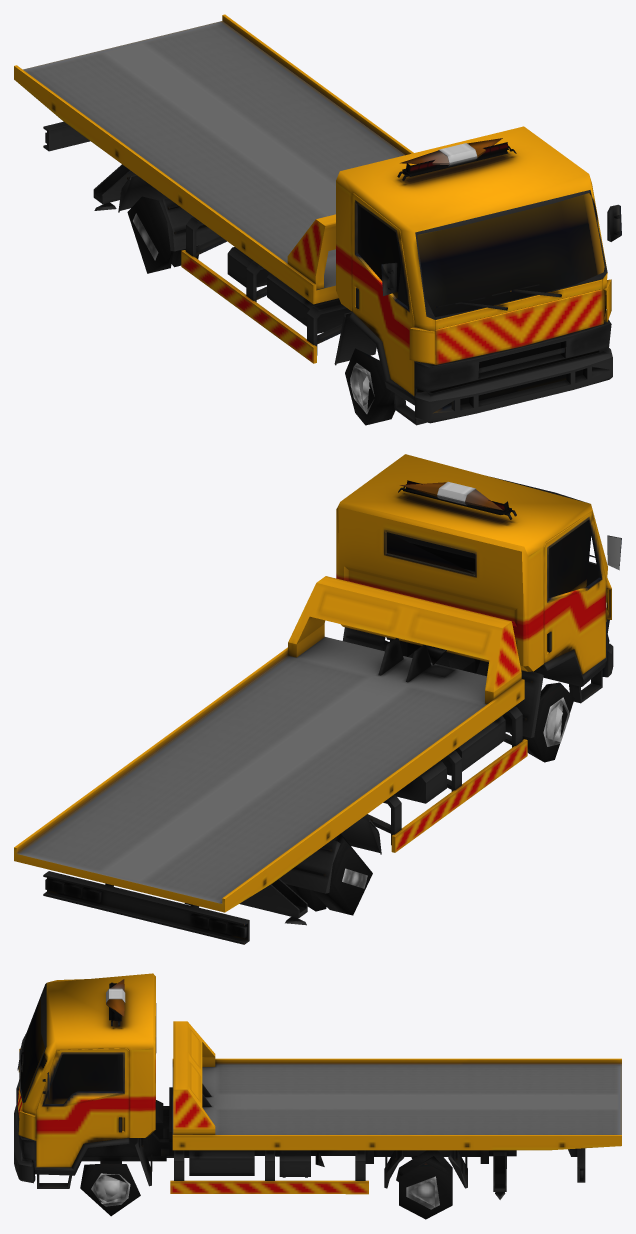
File: svc_tow_truck.glb
The picture shows the model from 3 angles, top to bottom: view 1: azimuth 30°, elevation 25°; view 2: azimuth 150°, elevation 25°; view 3: azimuth 270°, elevation 25°; orthographic projection. The views are drawn at different scales.
Visible parts, largest first — view 1: svc_tow_truck; view 2: svc_tow_truck; view 3: svc_tow_truck.
Boxes of the visible parts, bbox=[...] form: svc_tow_truck: bbox=[14, 14, 621, 425]; svc_tow_truck: bbox=[14, 454, 621, 944]; svc_tow_truck: bbox=[14, 973, 621, 1219].
Size of the model in its own units: 2.19 by 2.18 by 6.39.
1 material, 1 textured.
